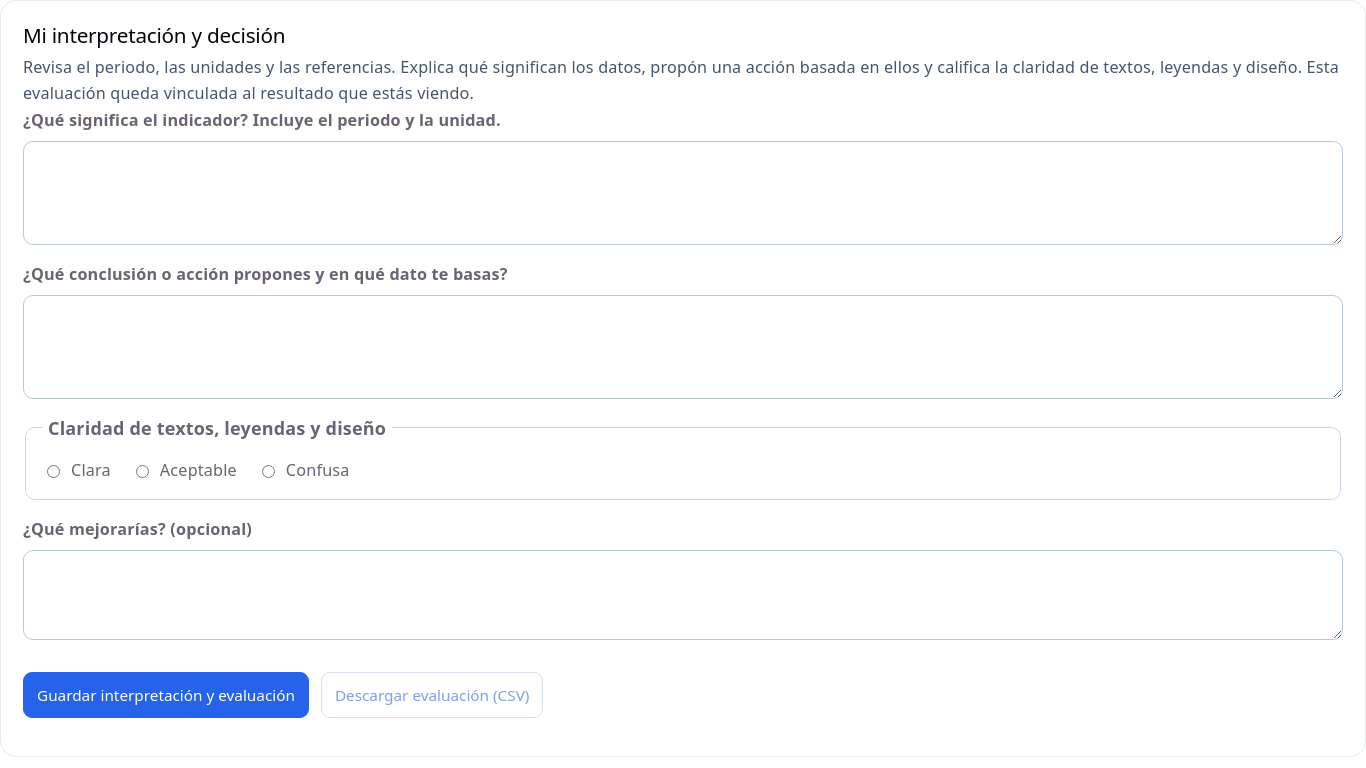
Test case: records a human interpretation, action and qualitative clarity against the displayed snapshot
Expected: the radio button labelled "Clara" is not checked, left=47, top=465, right=60, bottom=478
Type "En octubre hubo cuatro atenciones registradas." into the text box labelled "¿Qué significa el indicador? Incluye el periodo y la unidad.".
click(683, 193); type("En octubre hubo cuatro atenciones registradas.")  # box left=23, top=141, right=1343, bottom=245
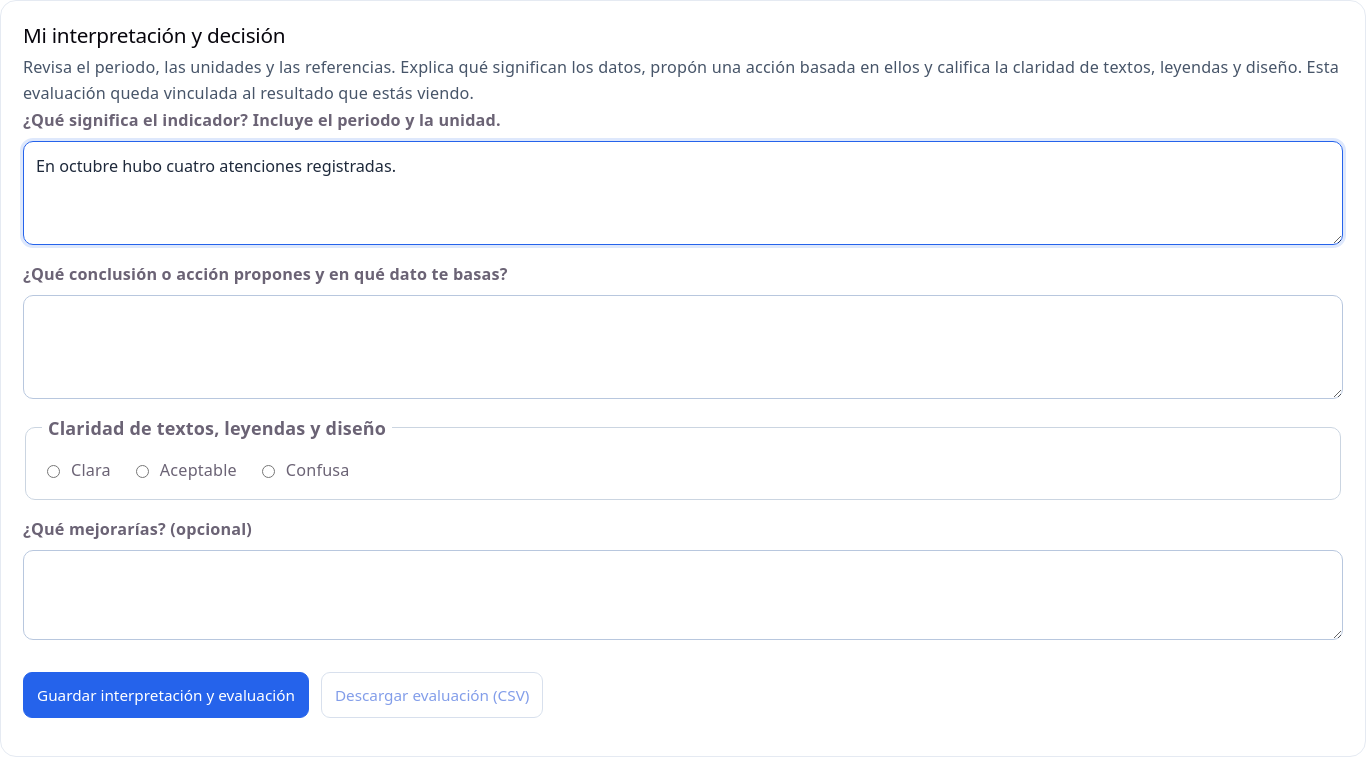
Type "Revisar la programación del área con mayor carga." into the text box labelled "¿Qué conclusión o acción propones y en qué dato te basas?".
click(683, 347); type("Revisar la programación del área con mayor carga.")  # box left=23, top=295, right=1343, bottom=399
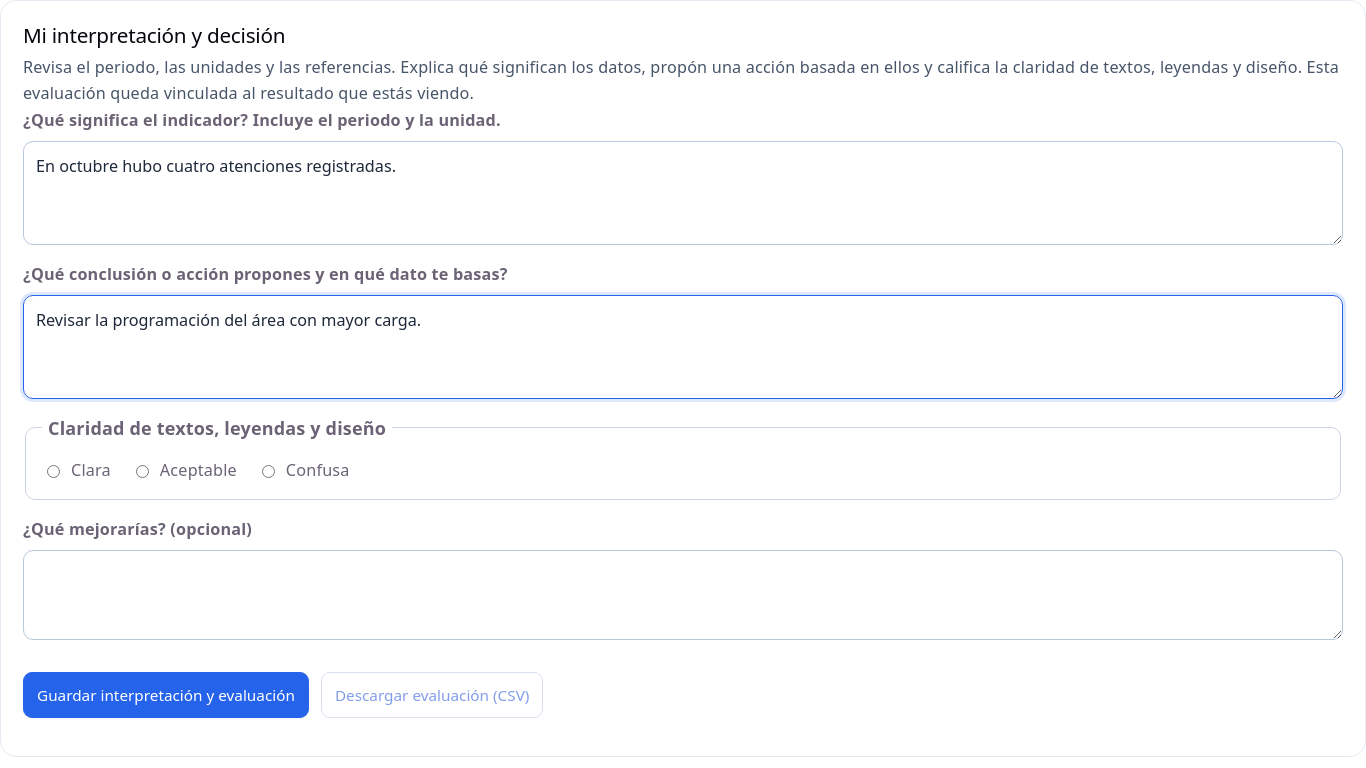
Click the radio button labelled "Aceptable".
click(142, 471)  # box left=136, top=465, right=149, bottom=478
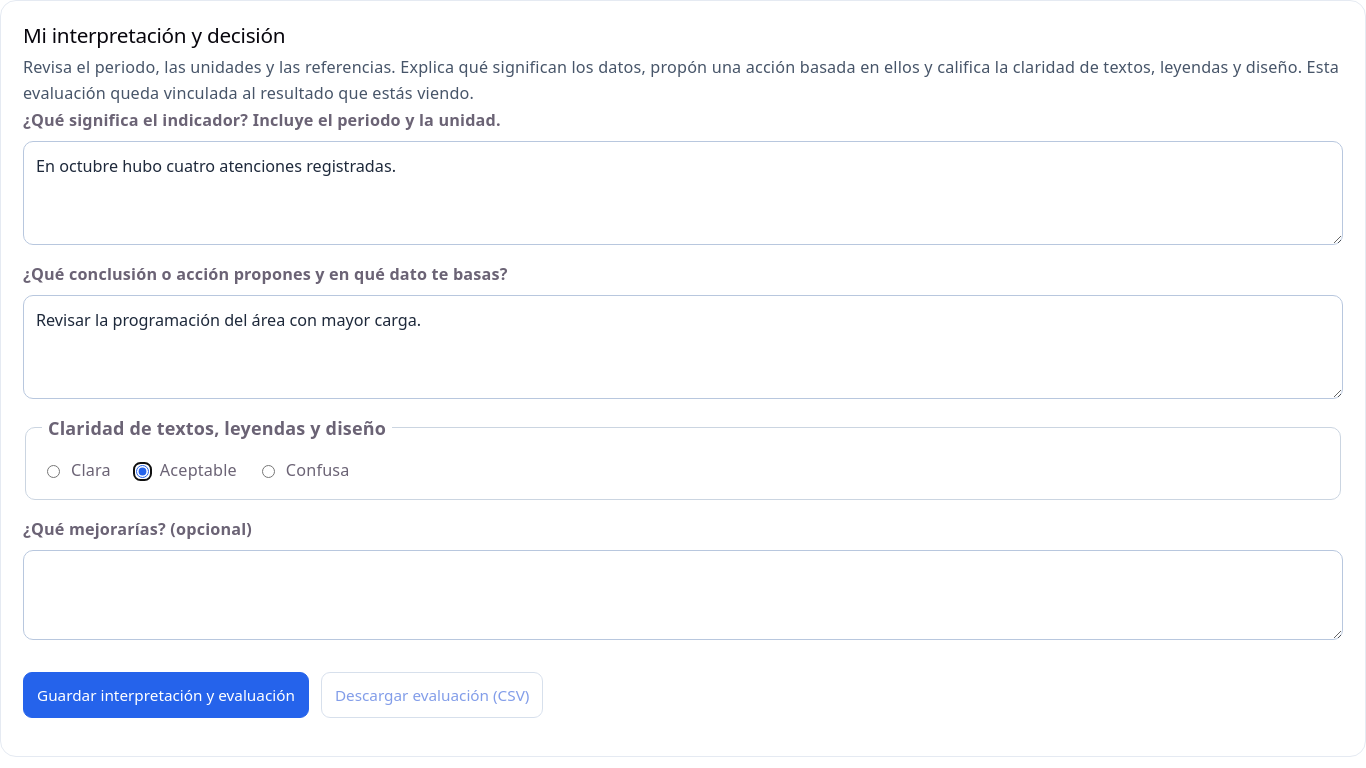
Click the button "Guardar interpretación y evaluación".
click(166, 695)  # box left=23, top=672, right=309, bottom=718
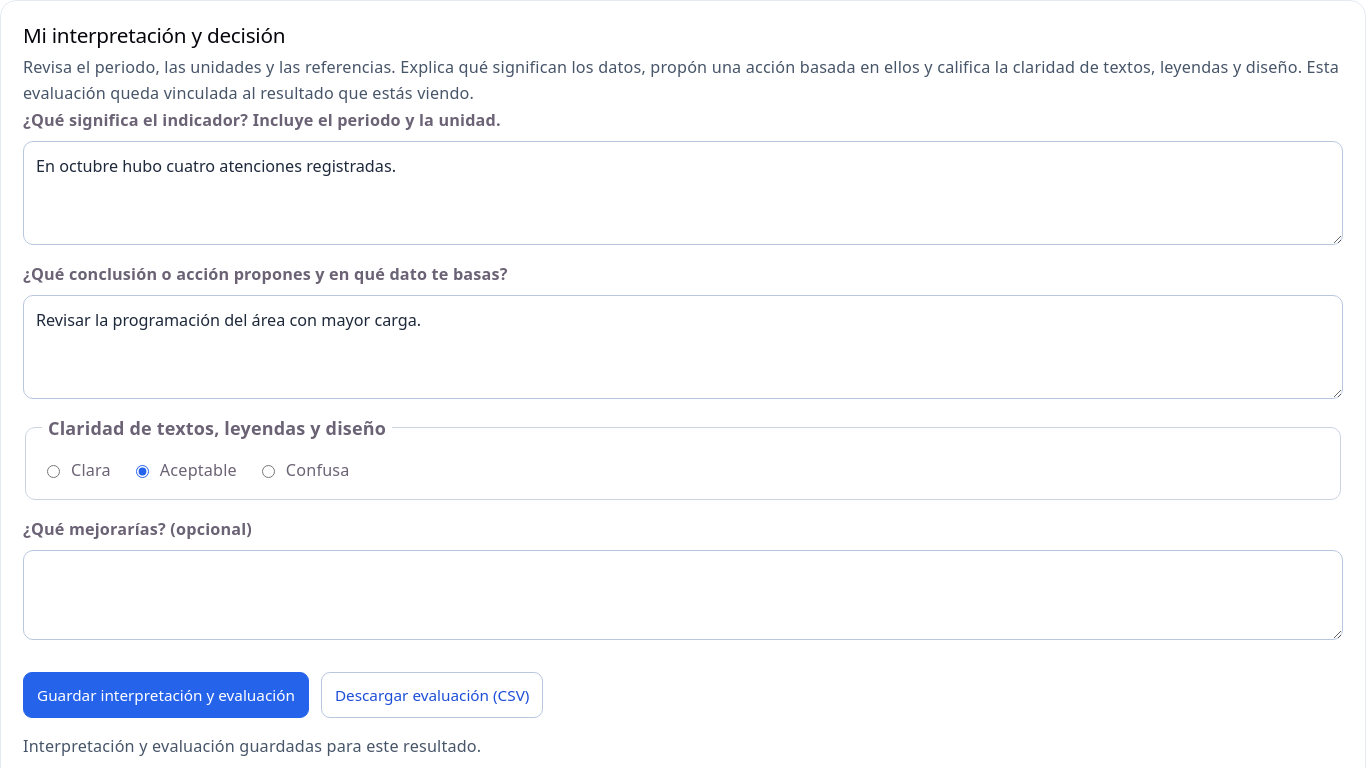
Expected: the text "Interpretación y evaluación guardadas para este resultado." is shown, left=23, top=735, right=481, bottom=757
Expected: the button "Descargar evaluación (CSV)" is enabled, left=321, top=672, right=543, bottom=718
